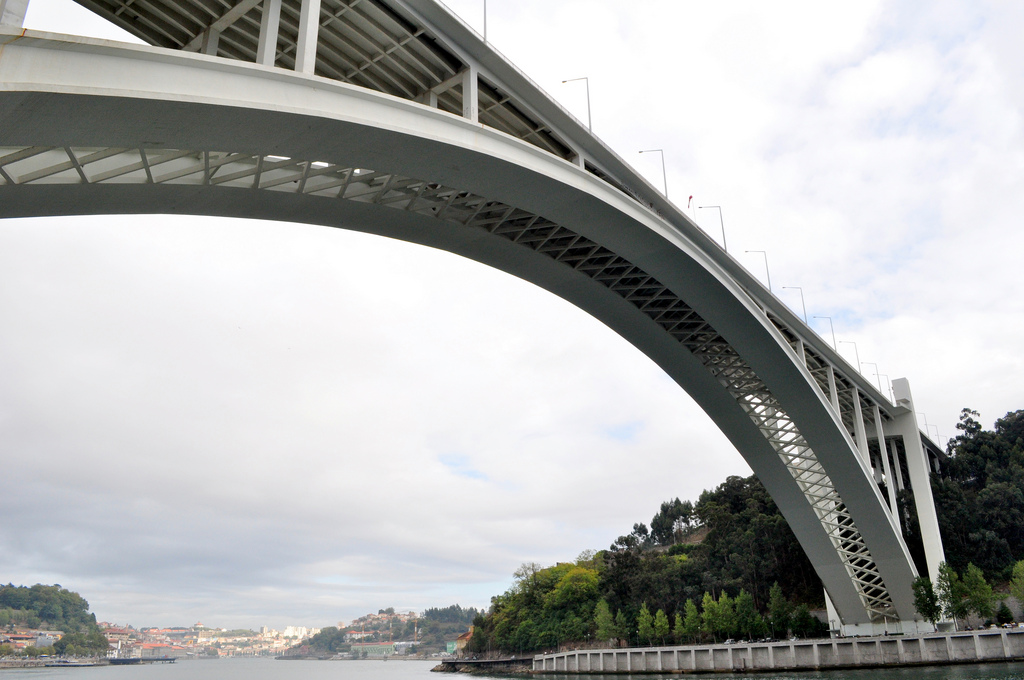arrabida: (0, 0, 958, 641)
